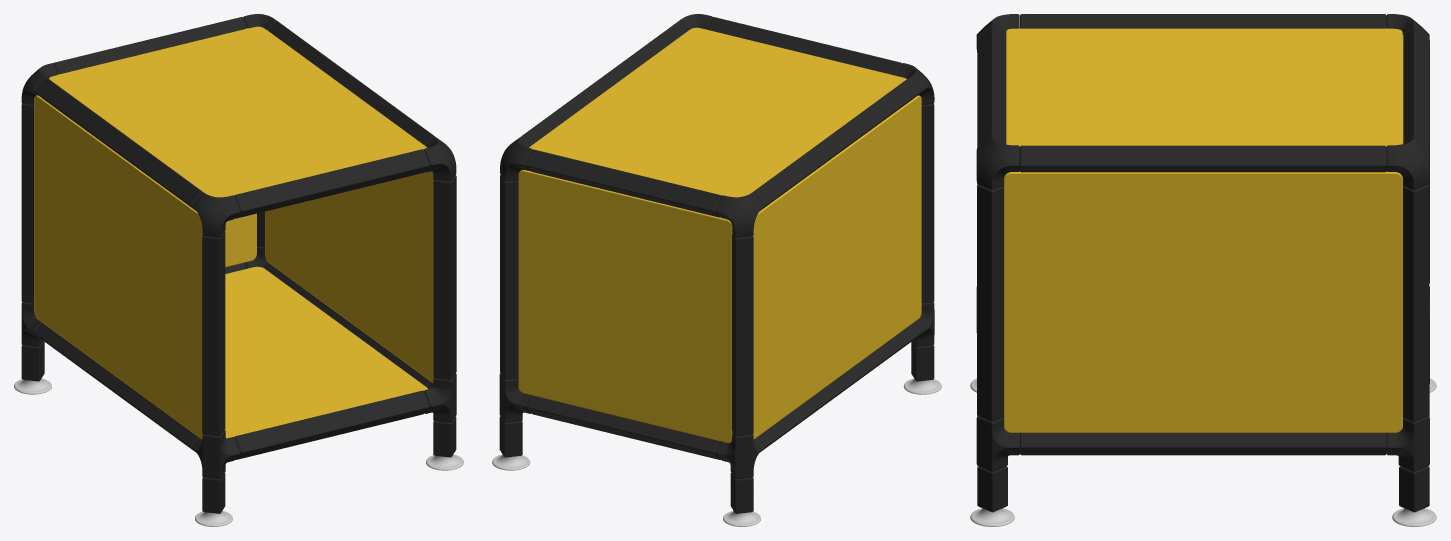
3 views of the same model, side by side, from view 1: azimuth 30°, elevation 25°; view 2: azimuth 150°, elevation 25°; view 3: azimuth 270°, elevation 25° (orthographic). The views are drawn at different scales.
Parts seen in each view (by area): view 1: 229x329x229; view 2: 229x329x229; view 3: 229x329x229.
Boxes of the visible parts, x1,y1,x2,y2 form: 229x329x229: [14, 14, 463, 526]; 229x329x229: [492, 14, 941, 526]; 229x329x229: [970, 14, 1436, 526].
Size of the model in its own units: 0.3189 by 0.3683 by 0.4182.
